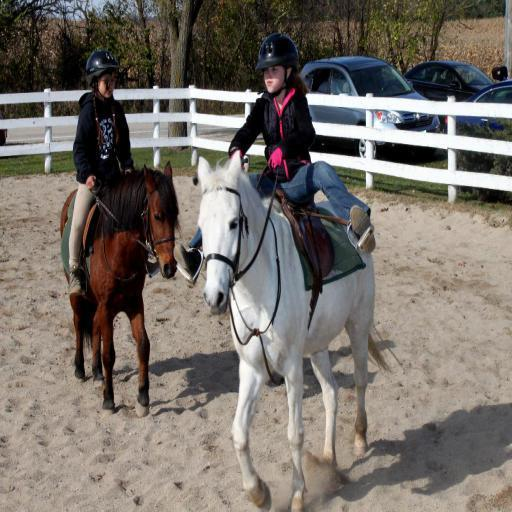horse: (196, 146, 402, 512), (60, 158, 181, 421)
